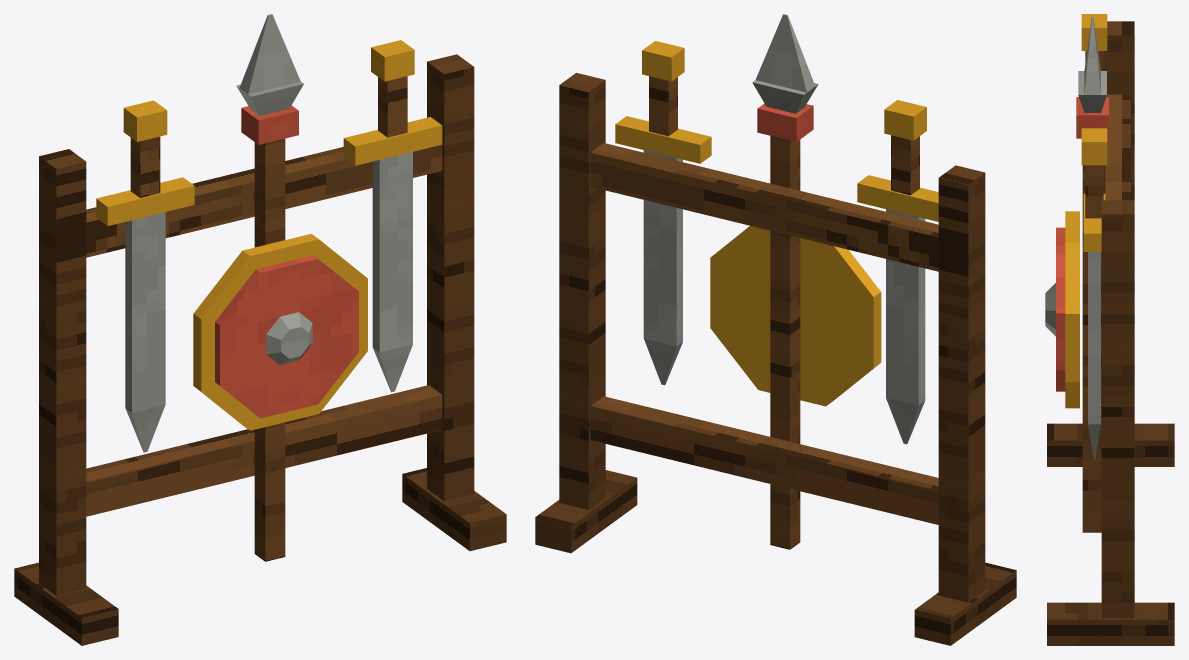
Rendered from int_weaponrack.glb.
3 views of the same model, side by side, from view 1: azimuth 30°, elevation 25°; view 2: azimuth 150°, elevation 25°; view 3: azimuth 270°, elevation 25° (orthographic). The views are drawn at different scales.
Parts seen in each view (by area): view 1: int_weaponrack; view 2: int_weaponrack; view 3: int_weaponrack.
Boxes of the visible parts, bbox=[...] form: int_weaponrack: bbox=[14, 14, 506, 645]; int_weaponrack: bbox=[535, 14, 1016, 645]; int_weaponrack: bbox=[1045, 14, 1174, 645].
Bounding box in the file's own units: 1.27 × 1.61 × 0.355.
4 materials, 3 textured.
